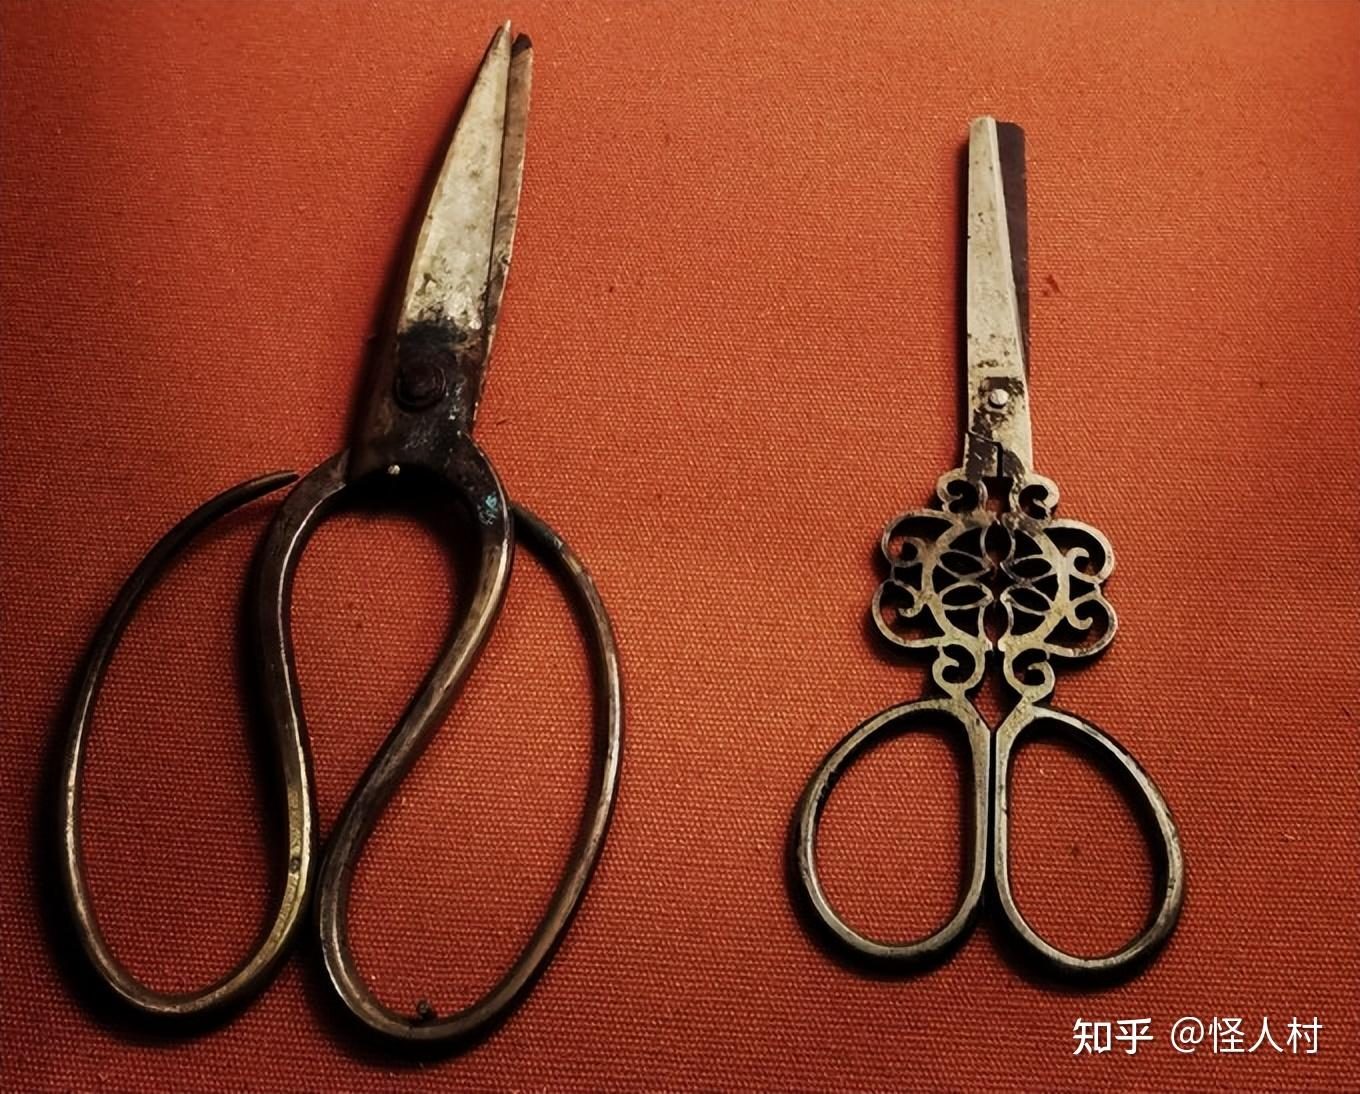scissors: (29, 10, 642, 1094), (774, 113, 1193, 1004)
